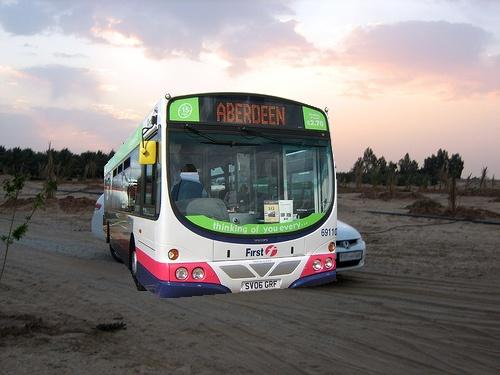tampered: (104, 92, 337, 298)
